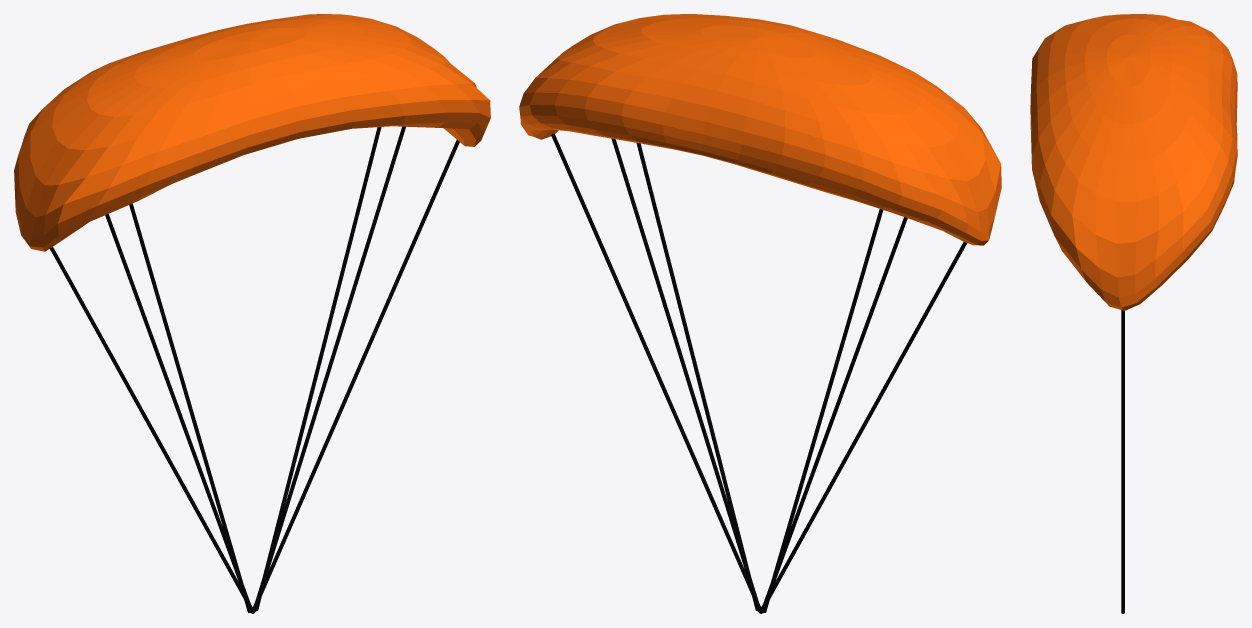
File: parachute.fbx
3 views of the same model, side by side, from view 1: azimuth 30°, elevation 25°; view 2: azimuth 150°, elevation 25°; view 3: azimuth 270°, elevation 25° (orthographic). The views are drawn at different scales.
Parts seen in each view (by area): view 1: Sphere, Cylinder, Cylinder.001, Cylinder.002; view 2: Sphere, Cylinder, Cylinder.001, Cylinder.002; view 3: Sphere, Cylinder.
Part boxes in pixels (bbox=[...]): Sphere: bbox=[14, 14, 490, 251]; Cylinder: bbox=[50, 140, 459, 613]; Cylinder.001: bbox=[105, 126, 405, 613]; Cylinder.002: bbox=[129, 127, 381, 612]; Sphere: bbox=[519, 14, 1001, 245]; Cylinder: bbox=[551, 133, 967, 613]; Cylinder.001: bbox=[611, 138, 907, 613]; Cylinder.002: bbox=[636, 143, 883, 612]; Sphere: bbox=[1030, 14, 1237, 310]; Cylinder: bbox=[1121, 310, 1124, 602].
Bounding box in the file's own units: 744 × 903 × 304.
